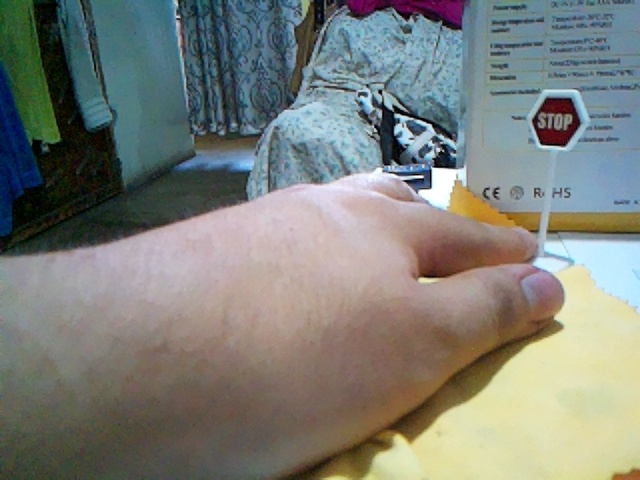stop_sign: (527, 90, 589, 149)
